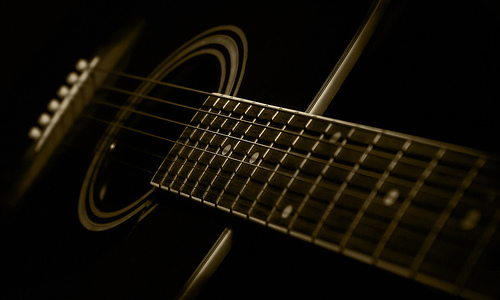guitar: (1, 1, 500, 300)
